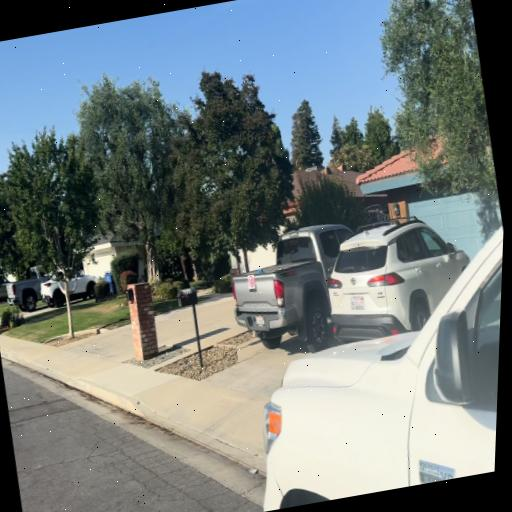bullseye: (248, 274, 255, 289)
